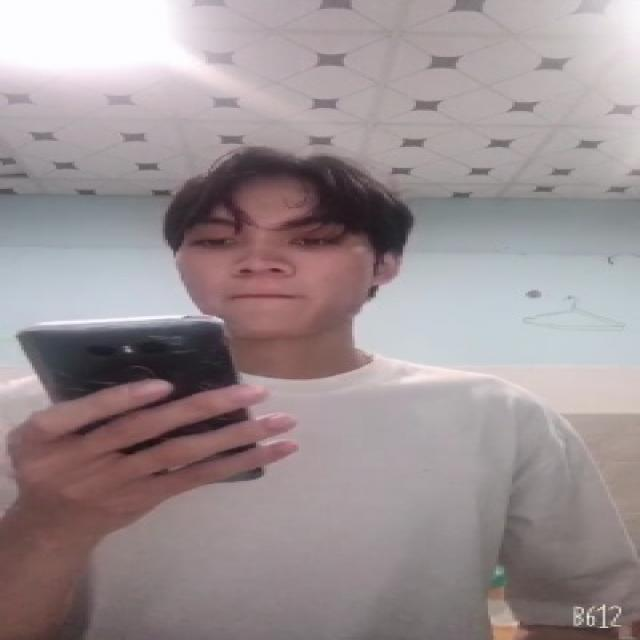Phone: (18, 314, 272, 486)
